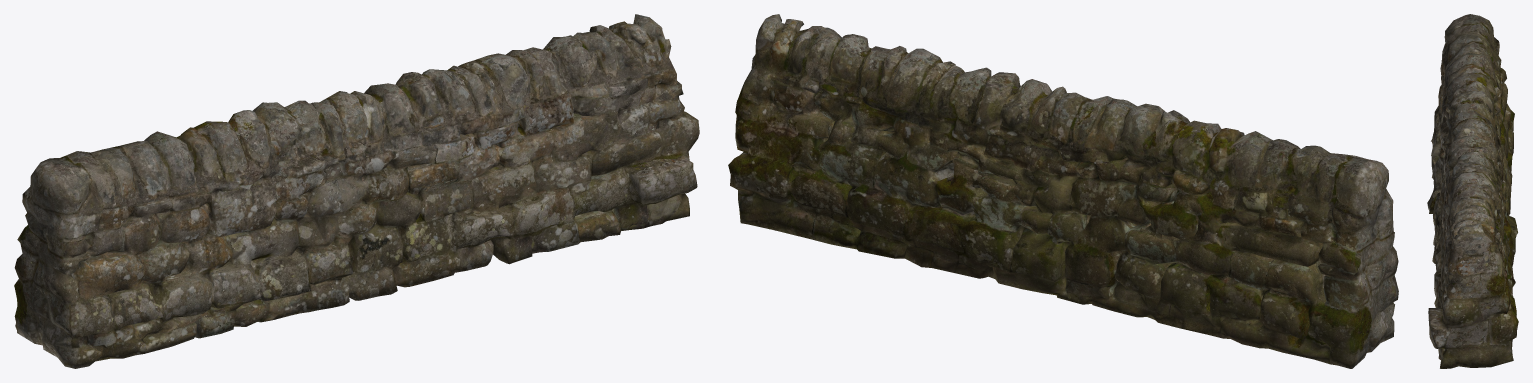
The picture shows the model from 3 angles, left to right: view 1: azimuth 30°, elevation 25°; view 2: azimuth 150°, elevation 25°; view 3: azimuth 270°, elevation 25°; orthographic projection. The views are drawn at different scales.
Visible parts, largest first — view 1: ukhgdfyga_LOD0_TIER2_000; view 2: ukhgdfyga_LOD0_TIER2_000; view 3: ukhgdfyga_LOD0_TIER2_000.
Boxes of the visible parts, <box> form: ukhgdfyga_LOD0_TIER2_000: <box>14,14,699,368</box>; ukhgdfyga_LOD0_TIER2_000: <box>728,14,1398,368</box>; ukhgdfyga_LOD0_TIER2_000: <box>1427,14,1518,368</box>.
Size of the model in its own units: 3.11 by 0.8737 by 0.5239.
Materials: 1 (1 with a texture image).
